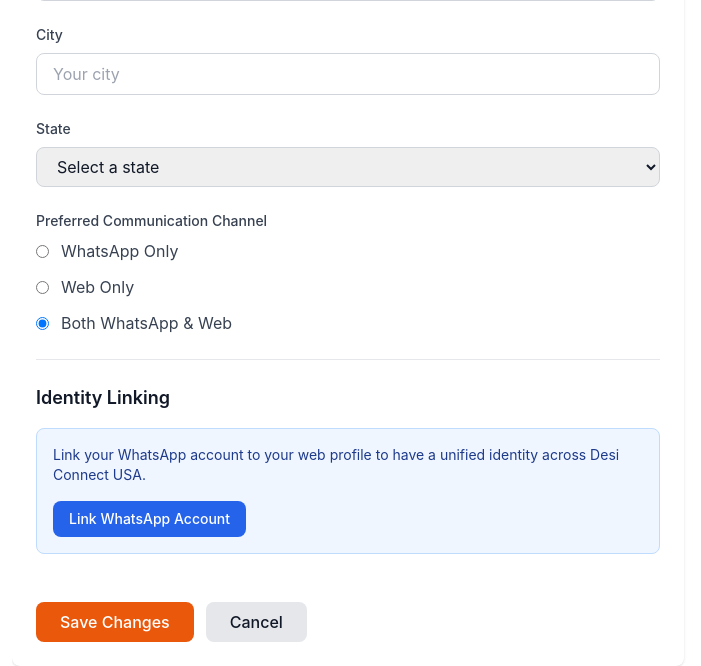
Test case: Profile Settings Page › should display success message after saving
(page scrolled)
Click the button "Save Changes".
click(115, 622)  # box [36,602,194,642]
(page scrolled)
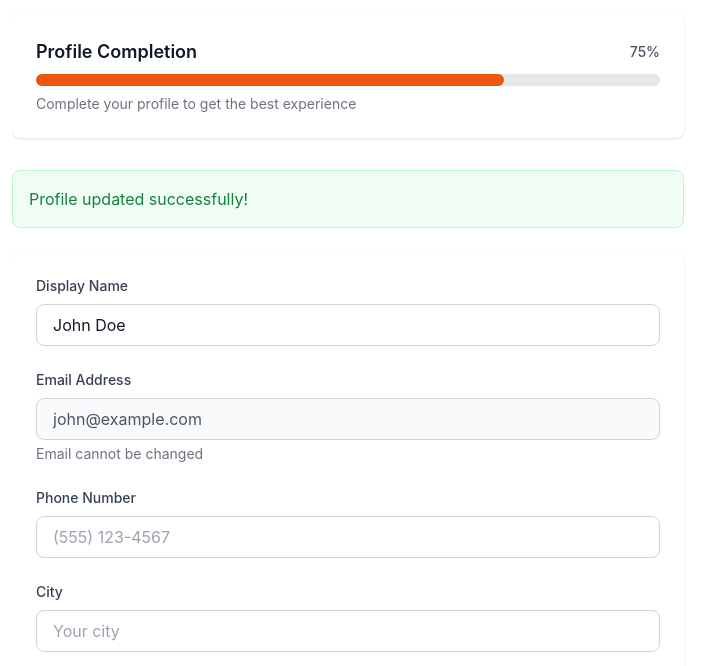
expect the text "Profile updated successfully!" is shown: met, box [12,170,684,228]
